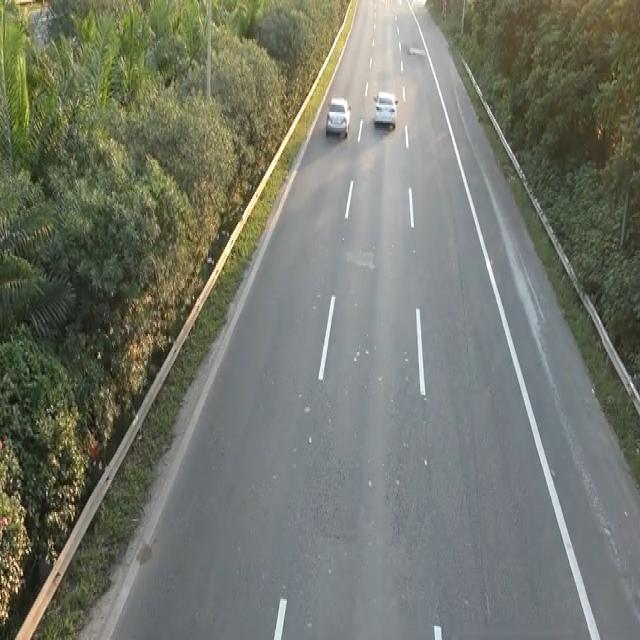bus: (371, 87, 401, 135), (325, 94, 351, 139)
